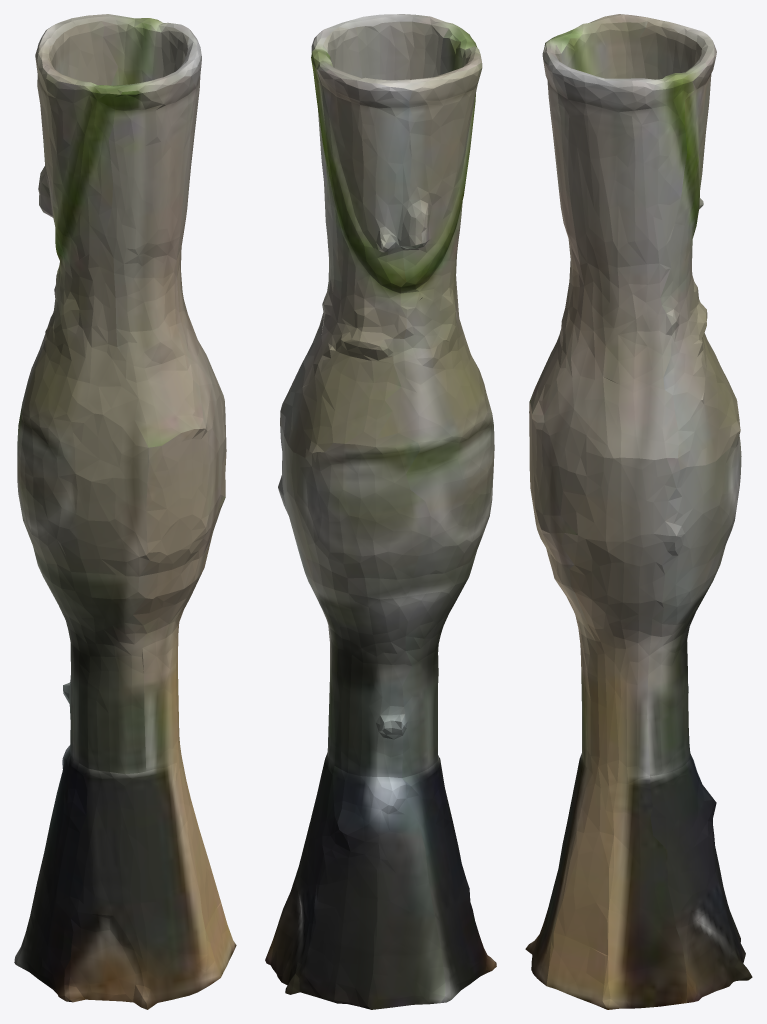
The picture shows the model from 3 angles, left to right: view 1: azimuth 30°, elevation 25°; view 2: azimuth 150°, elevation 25°; view 3: azimuth 270°, elevation 25°; orthographic projection.
Visible parts, largest first — view 1: world; view 2: world; view 3: world.
Boxes of the visible parts, <box> form: world: <box>14,14,236,1009</box>; world: <box>265,14,496,1009</box>; world: <box>525,14,752,1009</box>.
Size of the model in its own units: 0.0491 by 0.2205 by 0.0497.
Materials: 1 (1 with a texture image).
